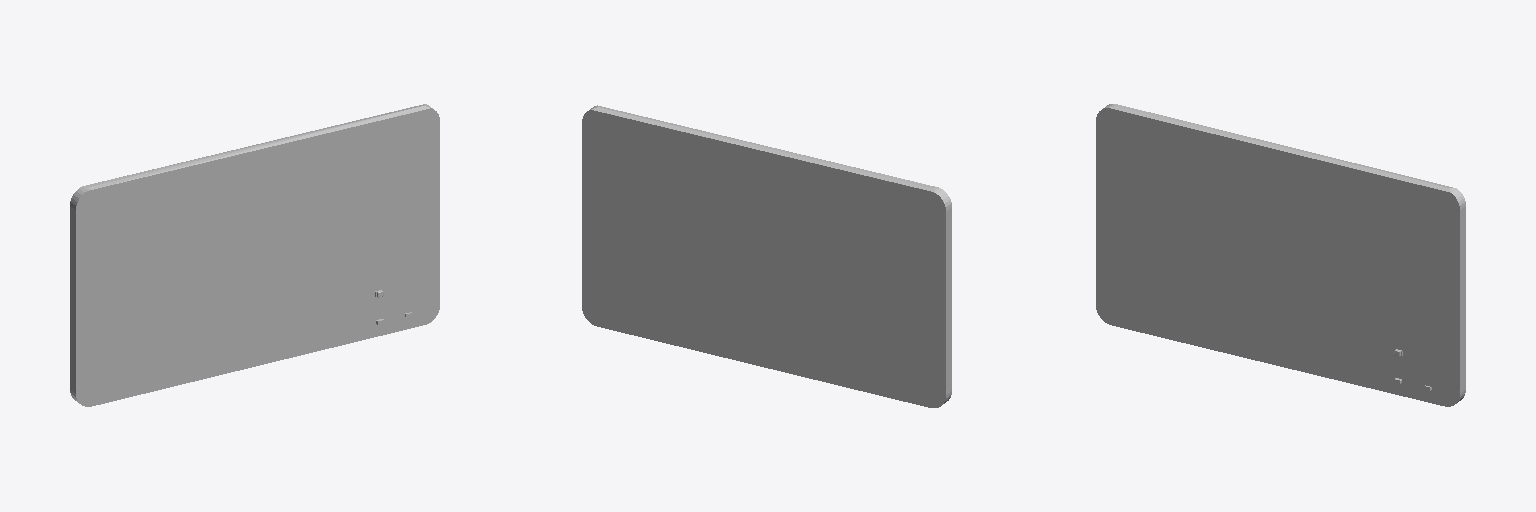
File: OBJ_PCB_Hacker Card.obj
3 views of the same model, side by side, from view 1: azimuth 30°, elevation 25°; view 2: azimuth 150°, elevation 25°; view 3: azimuth 330°, elevation 25° (orthographic).
Bounding box in the file's own units: 349 × 199 × 13.18.